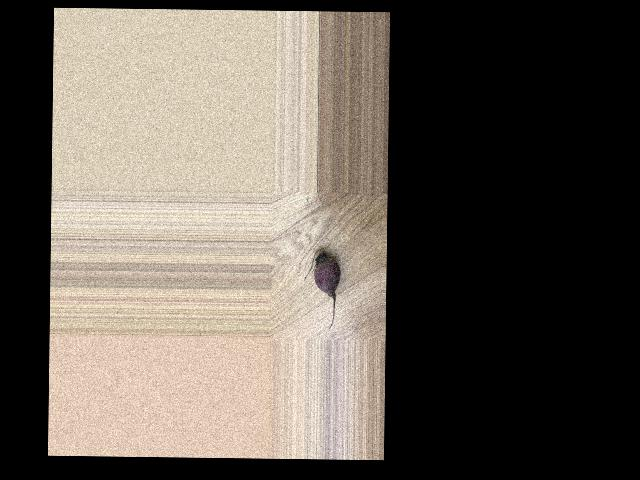beet: (304, 249, 341, 329)
